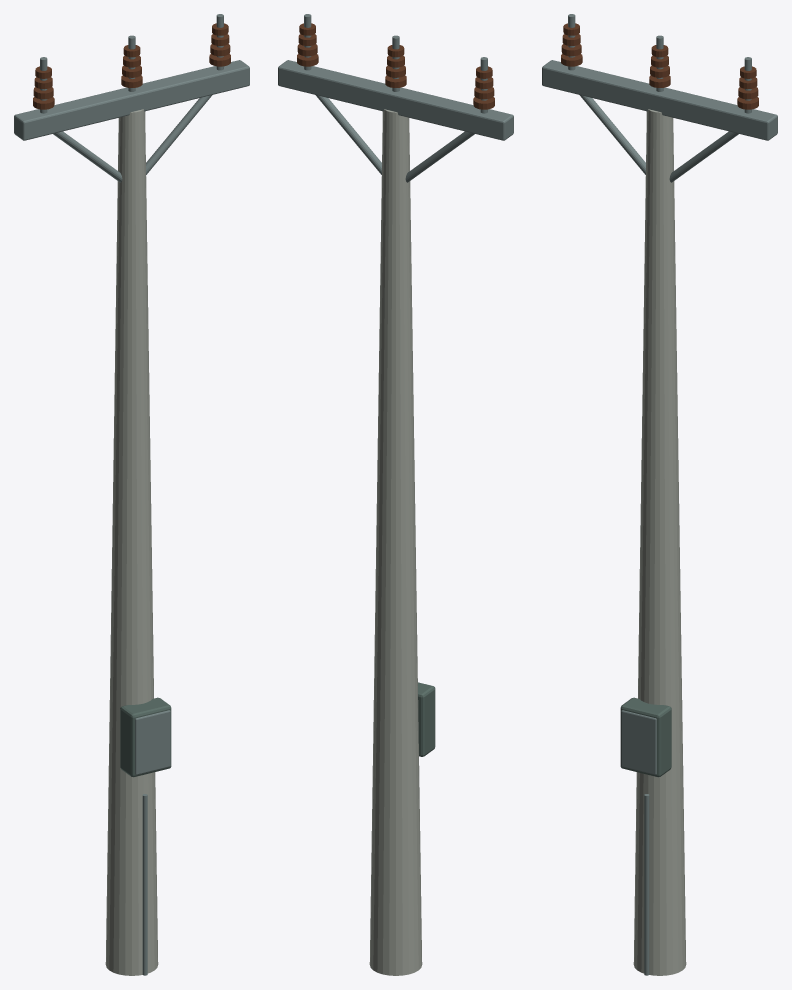
The model's file is source-edit.glb.
The picture shows the model from 3 angles, left to right: view 1: azimuth 30°, elevation 25°; view 2: azimuth 150°, elevation 25°; view 3: azimuth 330°, elevation 25°; orthographic projection.
Visible parts, largest first — view 1: POLE_Tapered, CROSSARM, BOX_Door, BOX_Casing, CONDUIT, BRACE_0.65, BRACE_-0.65; view 2: POLE_Tapered, CROSSARM, BOX_Casing, BRACE_0.65, BRACE_-0.65; view 3: POLE_Tapered, CROSSARM, BOX_Door, BOX_Casing, CONDUIT, BRACE_-0.65, BRACE_0.65.
Part boxes in pixels (x1,y1,x2,y2): POLE_Tapered: [105, 109, 158, 975]; CROSSARM: [14, 60, 249, 140]; BOX_Door: [135, 710, 170, 774]; BOX_Casing: [120, 697, 171, 777]; CONDUIT: [142, 794, 147, 975]; BRACE_0.65: [146, 95, 212, 174]; BRACE_-0.65: [53, 131, 122, 182]; POLE_Tapered: [369, 109, 422, 975]; CROSSARM: [278, 60, 513, 140]; BOX_Casing: [418, 682, 435, 756]; BRACE_0.65: [315, 95, 381, 174]; BRACE_-0.65: [405, 131, 474, 182]; POLE_Tapered: [633, 109, 686, 975]; CROSSARM: [542, 60, 777, 140]; BOX_Door: [621, 710, 656, 774]; BOX_Casing: [620, 697, 671, 777]; CONDUIT: [644, 794, 649, 975]; BRACE_-0.65: [579, 95, 645, 174]; BRACE_0.65: [669, 131, 738, 182].
Size of the model in its own units: 1.8 by 7.03 by 0.476.
